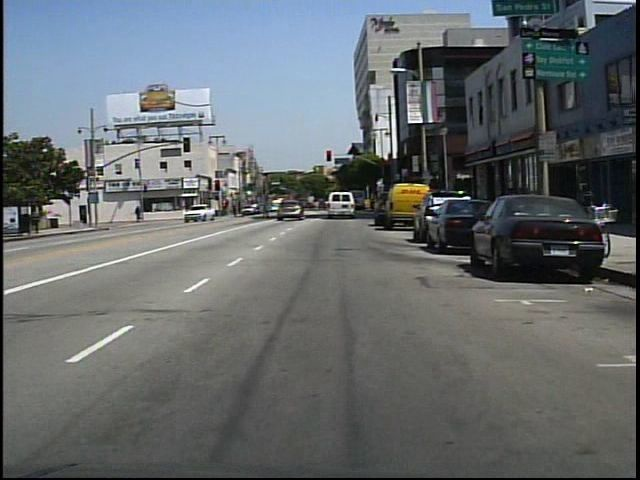person: (260, 192, 277, 222), (136, 205, 144, 223)
